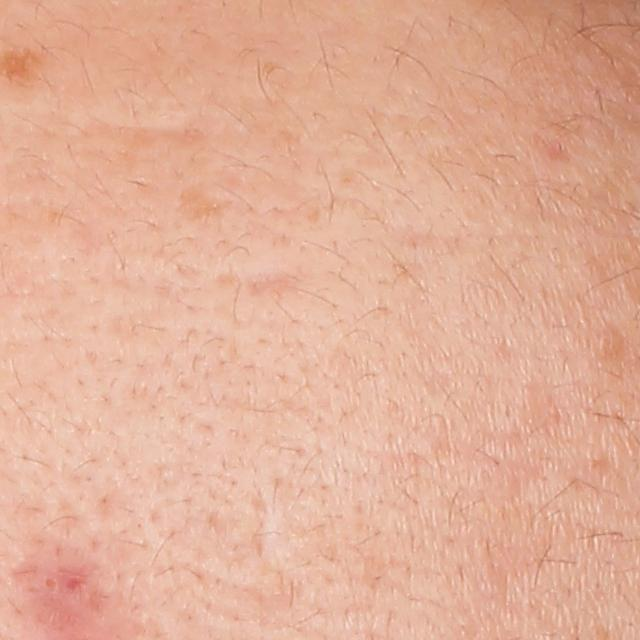atrophic_scar: (173, 175, 242, 229), (242, 259, 322, 305)
